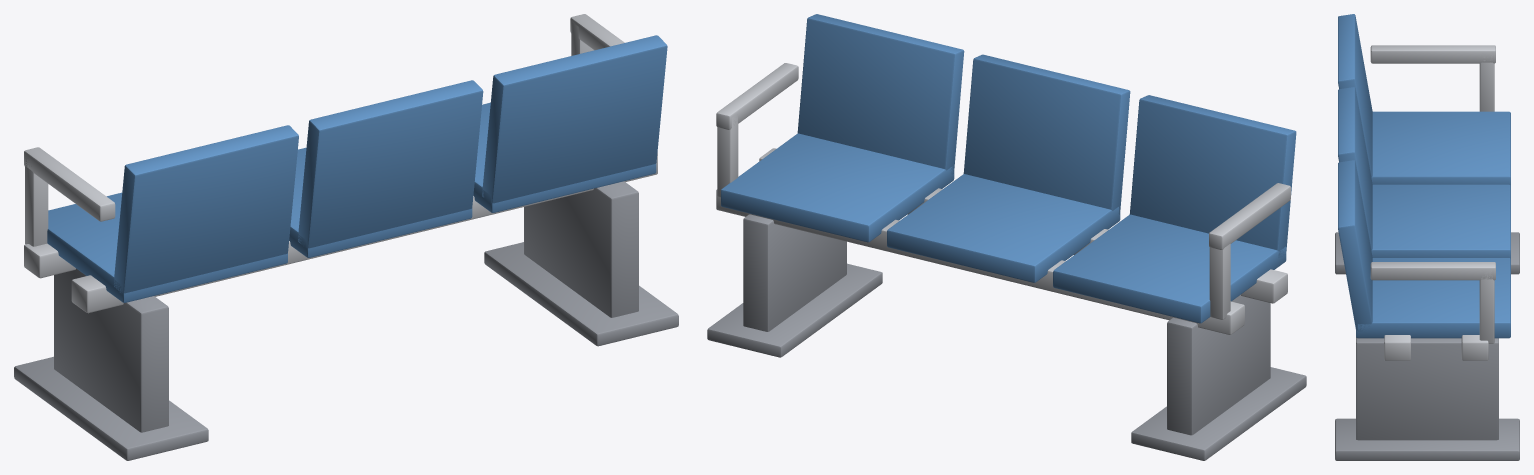
The model's file is th49_wartebank.glb.
3 renders of one model, left to right at view 1: azimuth 30°, elevation 25°; view 2: azimuth 150°, elevation 25°; view 3: azimuth 270°, elevation 25°, orthographic. The views are drawn at different scales.
Parts seen in each view (by area): view 1: Cube.007, Cube.011, Cube.013, Cube, Cube.002, Cube.003, Cube.001, Cube.006, Cube.010, Cube.012, Cube.004, Cube.008 (+3 smaller); view 2: Cube.013, Cube.011, Cube.007, Cube.012, Cube.010, Cube.006, Cube, Cube.002, Cube.003, Cube.001, Cube.005, Cube.008 (+4 smaller); view 3: Cube.002, Cube.006, Cube.010, Cube.012, Cube.003, Cube.013, Cube.011, Cube.007, Cube.008, Cube.014, Cube.015, Cube.009 (+3 smaller).
Boxes of the visible parts, x1,y1,x2,y2 form: Cube.007: (114,125,298,293); Cube.011: (298,80,483,248); Cube.013: (482,35,667,203); Cube: (54,268,168,432); Cube.002: (524,181,638,317); Cube.003: (484,242,678,346); Cube.001: (14,356,208,460); Cube.006: (47,192,287,302); Cube.010: (289,147,472,257); Cube.012: (473,102,656,212); Cube.004: (71,152,657,313); Cube.008: (24,147,115,221); Cube.013: (797,14,964,174); Cube.011: (963,54,1130,214); Cube.007: (1129,95,1296,257); Cube.012: (721,133,954,242); Cube.010: (887,174,1120,282); Cube.006: (1053,214,1286,323); Cube: (1167,294,1270,435); Cube.002: (743,214,846,331); Cube.003: (707,263,882,357); Cube.001: (1131,367,1306,460); Cube.005: (716,189,1244,334); Cube.008: (1209,183,1290,249); Cube.002: (1356,337,1498,440); Cube.006: (1371,111,1510,185); Cube.010: (1371,184,1510,258); Cube.012: (1356,258,1510,338); Cube.003: (1335,418,1519,460); Cube.013: (1338,160,1372,331); Cube.011: (1338,87,1372,250); Cube.007: (1338,14,1372,177); Cube.008: (1370,45,1495,63); Cube.014: (1370,262,1495,280); Cube.015: (1479,270,1494,343); Cube.009: (1479,54,1494,111).
Bounding box in the file's own units: 1.8 × 0.8613 × 0.62.
